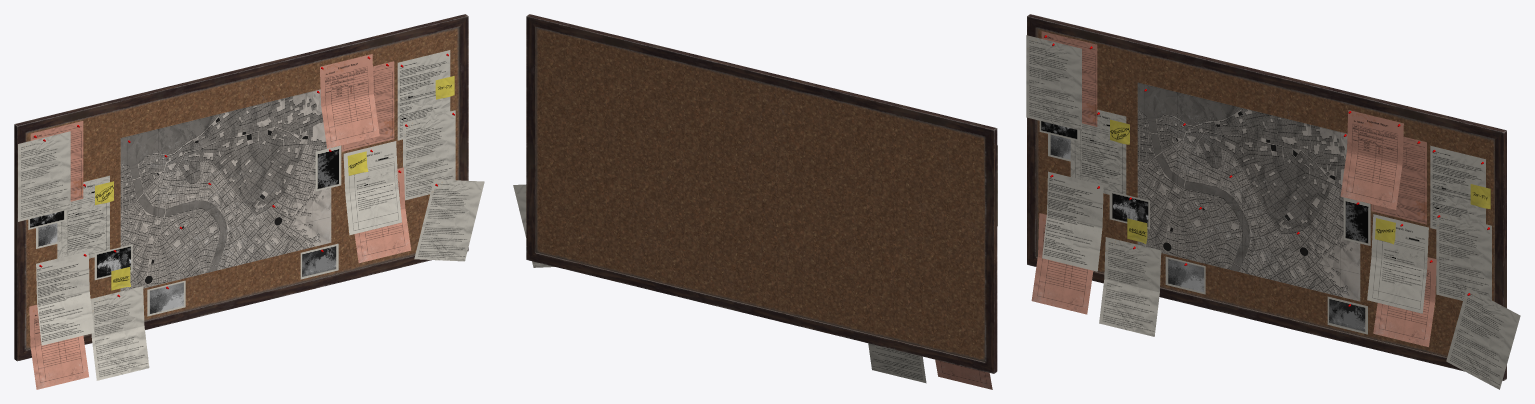
File: Cork_Board.fbx
The picture shows the model from 3 angles, left to right: view 1: azimuth 30°, elevation 25°; view 2: azimuth 150°, elevation 25°; view 3: azimuth 330°, elevation 25°; orthographic projection. The views are drawn at different scales.
Visible parts, largest first — view 1: CorkBoard_Base, map, paper.002, paper.004, paper.045, paper.043, paper.035, paper.005, paper.001, paper.003, paper.006, paper.042 (+10 smaller); view 2: CorkBoard_Base, paper.045, paper.042, paper.043; view 3: CorkBoard_Base, map, paper.002, paper.045, paper.004, paper.043, paper.035, paper.005, paper.001, paper.003, paper.006, paper.042 (+13 smaller).
Part boxes in pixels (<box>): CorkBoard_Base: <box>14,14,468,361</box>; map: <box>120,89,331,291</box>; paper.002: <box>320,54,379,148</box>; paper.004: <box>36,251,94,345</box>; paper.045: <box>90,286,149,380</box>; paper.043: <box>414,179,484,261</box>; paper.035: <box>18,131,70,221</box>; paper.005: <box>343,141,401,235</box>; paper.001: <box>403,110,455,200</box>; paper.003: <box>397,50,450,140</box>; paper.006: <box>57,175,109,258</box>; paper.042: <box>29,305,88,389</box>; CorkBoard_Base: <box>526,14,997,373</box>; paper.045: <box>868,343,926,383</box>; paper.042: <box>935,359,992,389</box>; paper.043: <box>513,184,554,267</box>; CorkBoard_Base: <box>1027,14,1506,380</box>; map: <box>1137,82,1360,301</box>; paper.002: <box>1340,110,1403,209</box>; paper.045: <box>1099,237,1161,336</box>; paper.004: <box>1042,171,1103,271</box>; paper.043: <box>1446,287,1520,389</box>; paper.035: <box>1026,35,1081,130</box>; paper.005: <box>1367,214,1428,313</box>; paper.001: <box>1436,212,1491,300</box>; paper.003: <box>1430,145,1485,229</box>; paper.006: <box>1070,109,1126,194</box>; paper.042: <box>1031,213,1093,314</box>.
Bounding box in the file's own units: 186 × 102 × 7.24.
